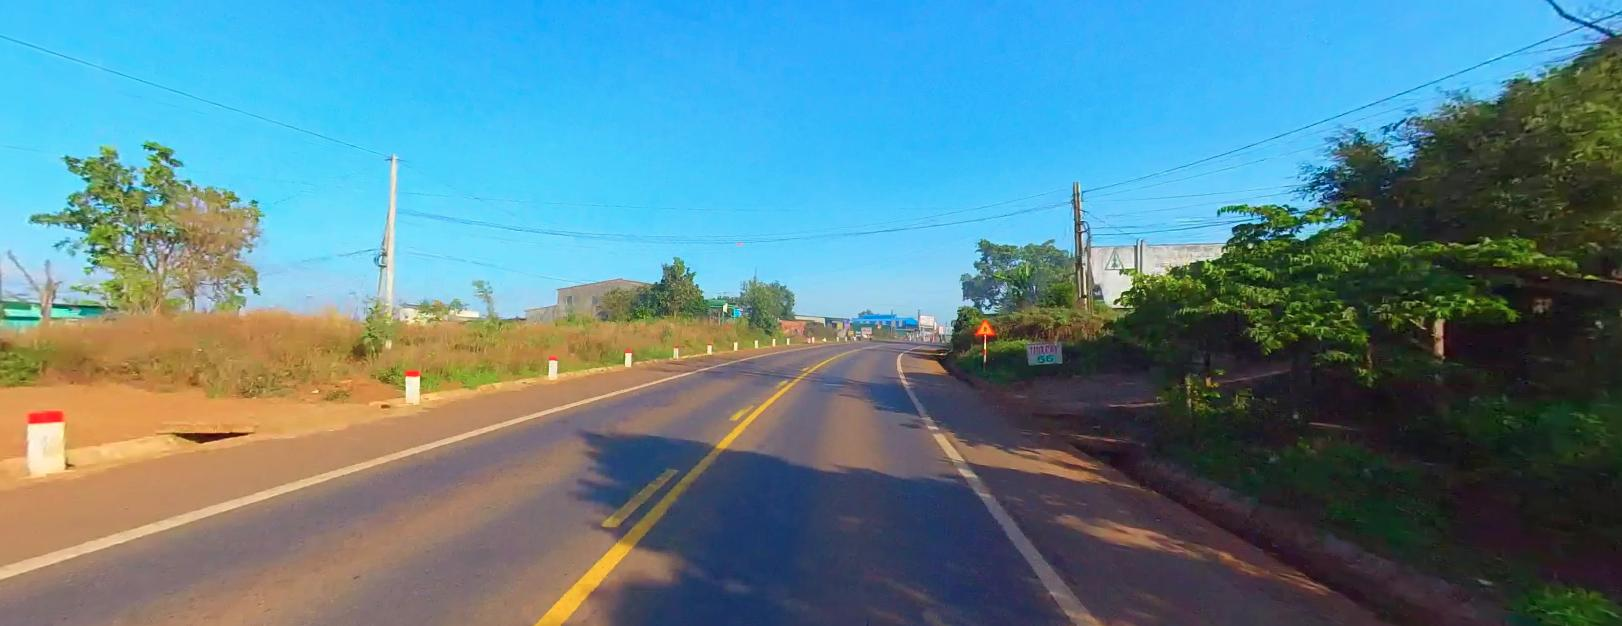Nguy hiem: (974, 317, 996, 335)
